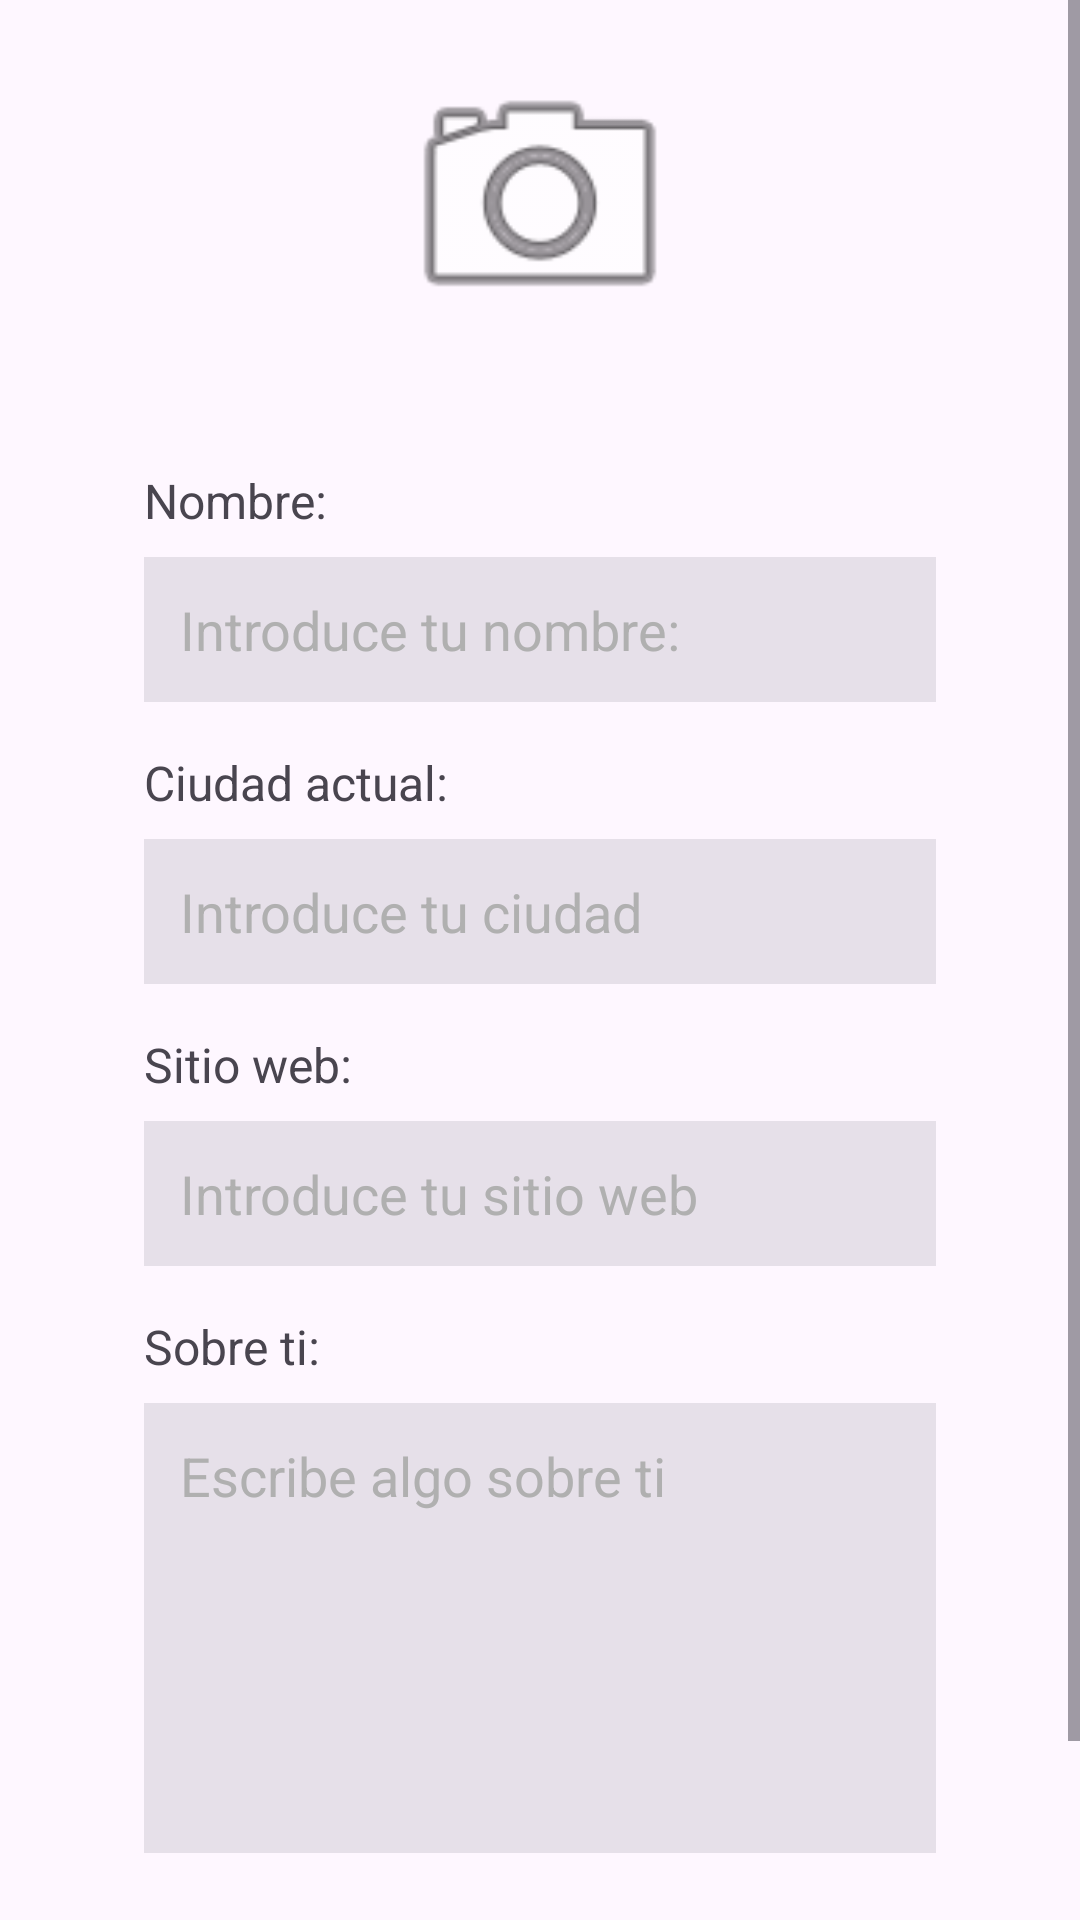

Screen size 1080px x 1920px. Icon name, then its box in pixels as [left=x1, top=y1, right=x2, bottom=y2]:
camera: [left=424, top=101, right=656, bottom=286]
